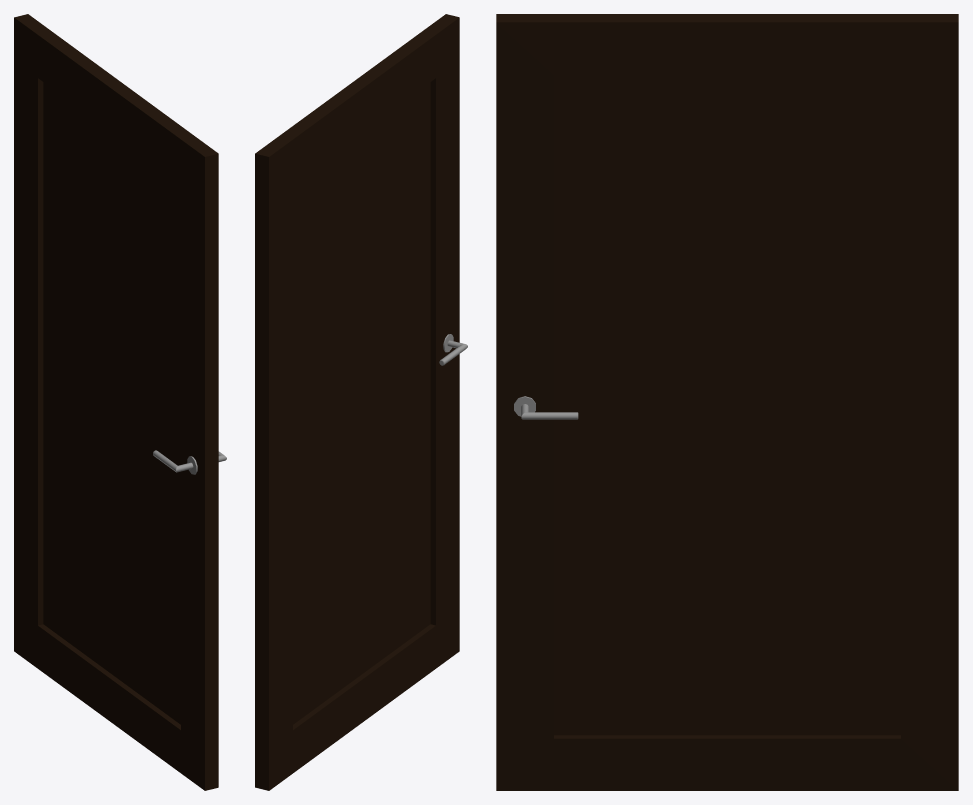
File: WoodenDoor001.FBX
3 views of the same model, side by side, from view 1: azimuth 30°, elevation 25°; view 2: azimuth 150°, elevation 25°; view 3: azimuth 270°, elevation 25° (orthographic). The views are drawn at different scales.
Parts seen in each view (by area): view 1: Door; view 2: Door; view 3: Door.
Part boxes in pixels (x1=…): Door: x1=14, y1=14, x2=218, y2=790; Door: x1=255, y1=14, x2=459, y2=790; Door: x1=496, y1=14, x2=958, y2=790.
Bounding box in the file's own units: 7.26 × 86.61 × 47.24.
